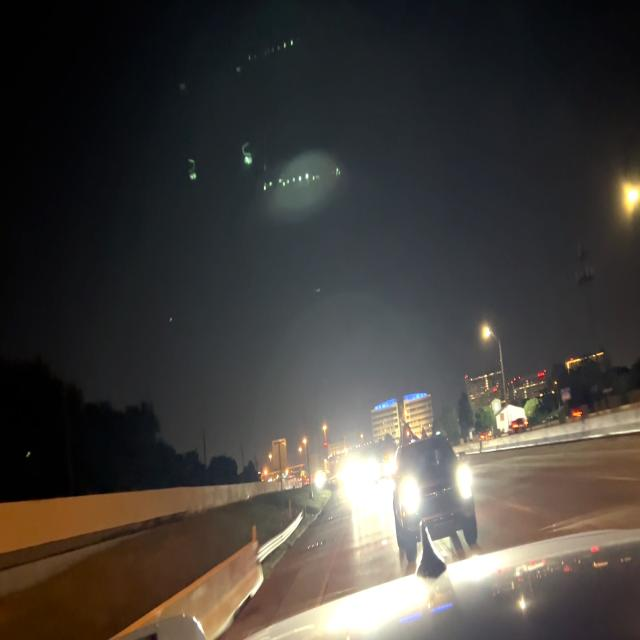back-of-sign: (272, 434, 290, 476)
